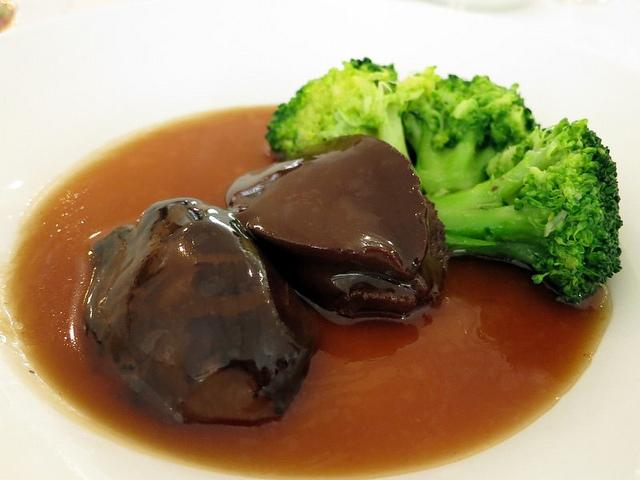broccoli: (422, 116, 624, 304), (395, 66, 541, 195), (264, 56, 412, 162)
